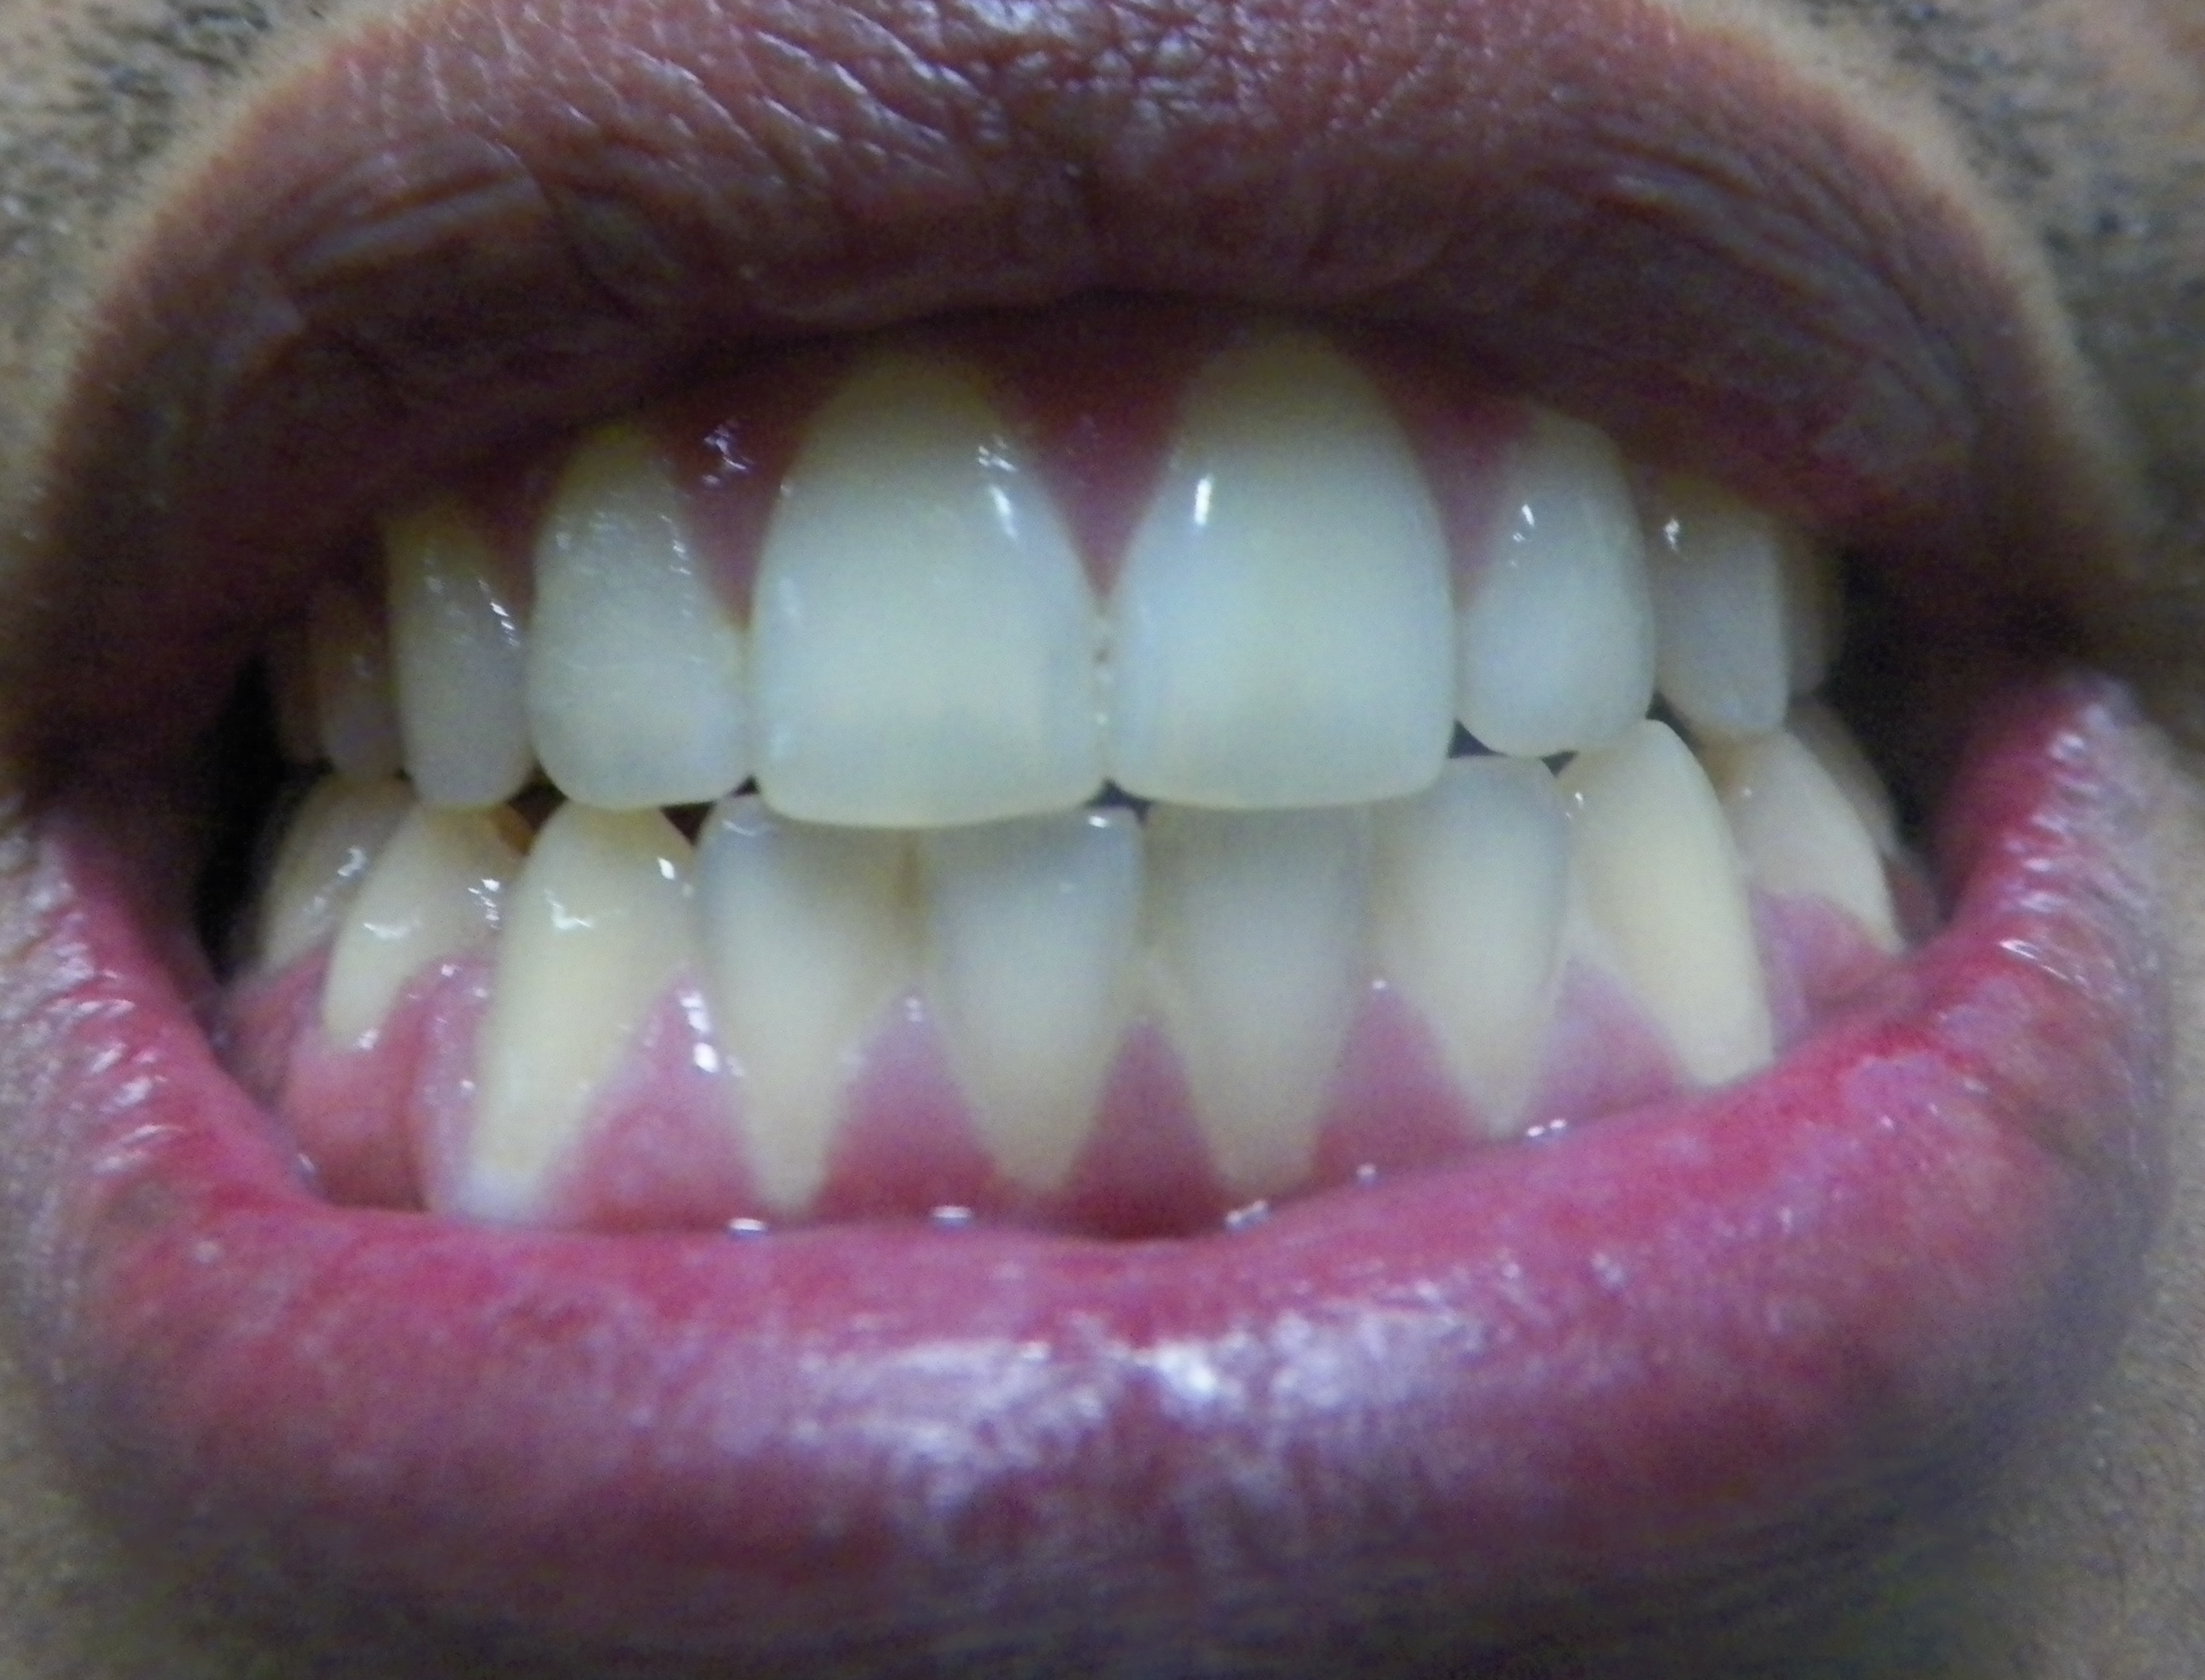boca: (256, 381, 1923, 1174)
